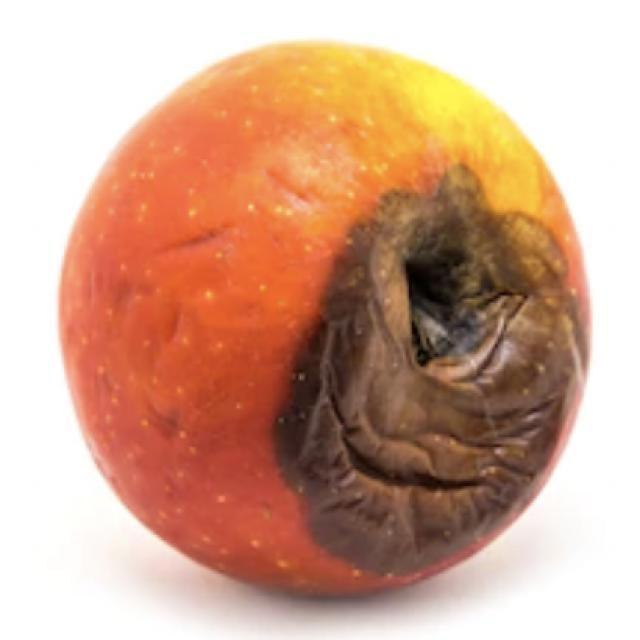Rotten: (68, 40, 607, 597)
